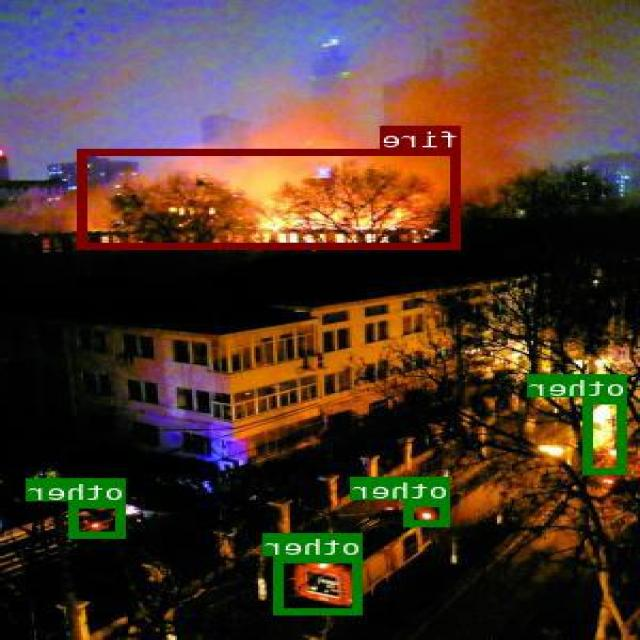fire: (79, 148, 463, 248)
other: (278, 556, 364, 613), (586, 397, 628, 474), (70, 500, 126, 537), (408, 500, 450, 524)
